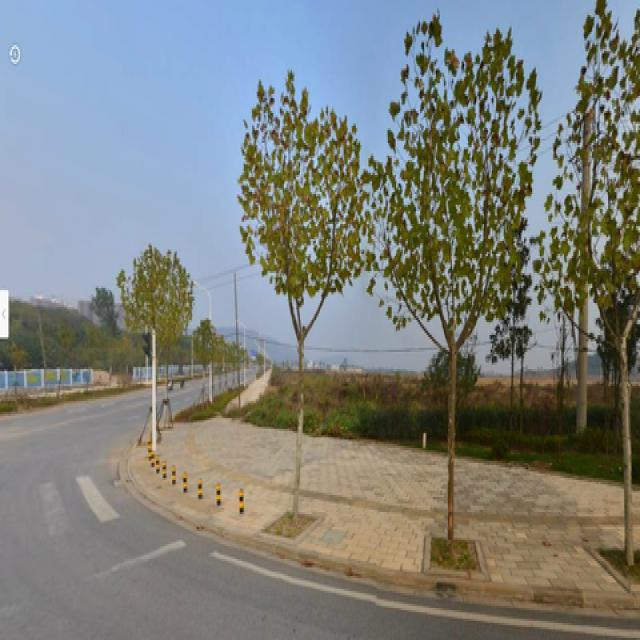meta: (371, 15, 544, 572), (238, 66, 366, 536)
